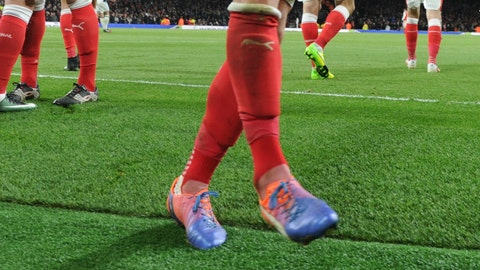football boots: (253, 170, 339, 244), (166, 178, 228, 248), (52, 85, 99, 104), (304, 43, 329, 77), (6, 82, 41, 102), (1, 96, 37, 111), (426, 62, 442, 74), (404, 58, 418, 70)
